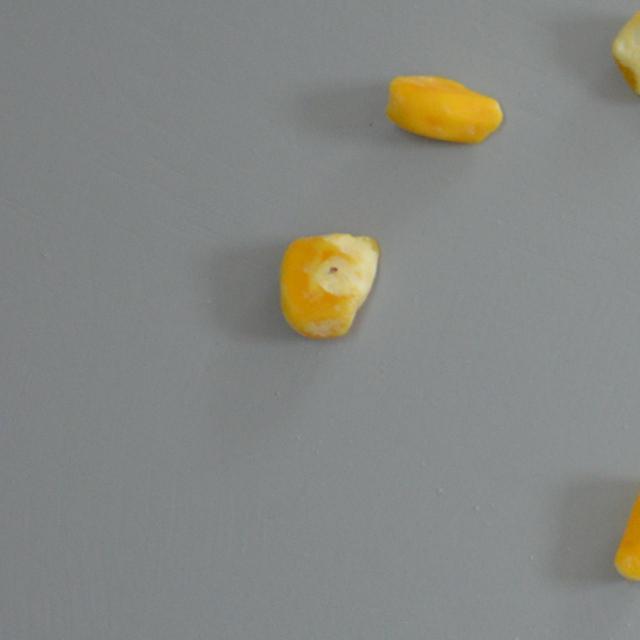estandar: (386, 54, 502, 159), (594, 462, 640, 582)
punto_negro: (279, 231, 380, 339), (612, 0, 640, 107)
